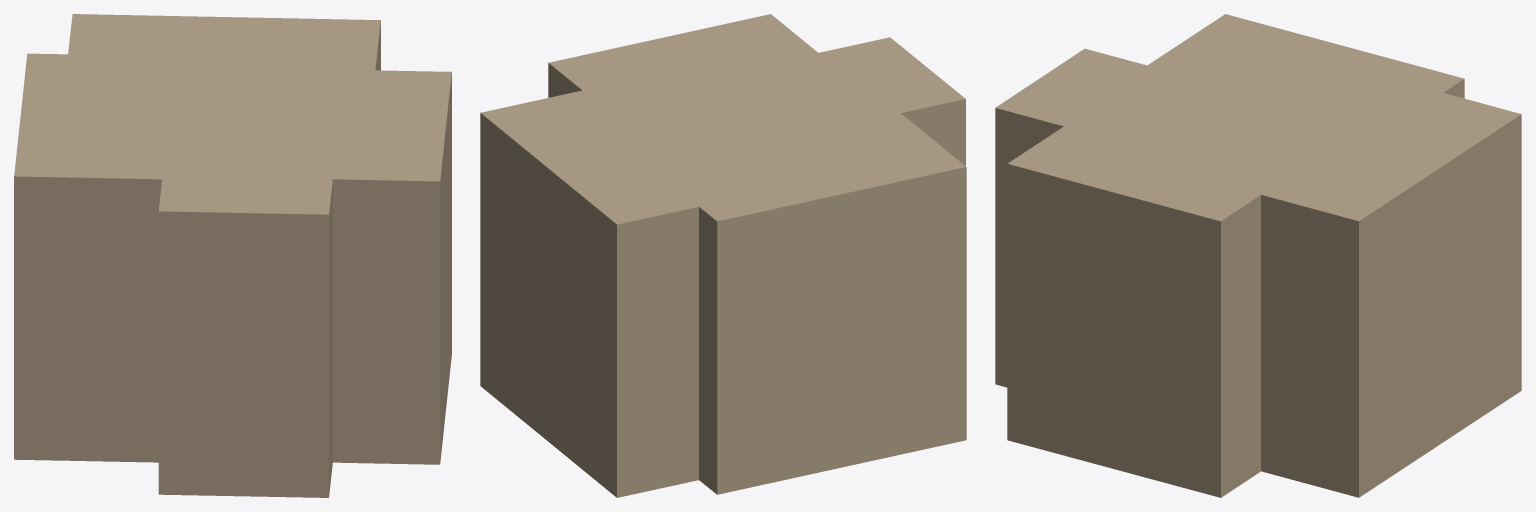
Rendered from bld_101245961.dae.
3 renders of one model, left to right at view 1: azimuth 30°, elevation 25°; view 2: azimuth 150°, elevation 25°; view 3: azimuth 270°, elevation 25°, orthographic. The views are drawn at different scales.
Visible parts, largest first — view 1: bld_101245961; view 2: bld_101245961; view 3: bld_101245961.
Part boxes in pixels (left/top/right/bottom): bld_101245961: left=14, top=14, right=451, bottom=497; bld_101245961: left=480, top=14, right=966, bottom=497; bld_101245961: left=995, top=14, right=1521, bottom=497.
Size of the model in its own units: 11.26 by 12.08 by 7.
